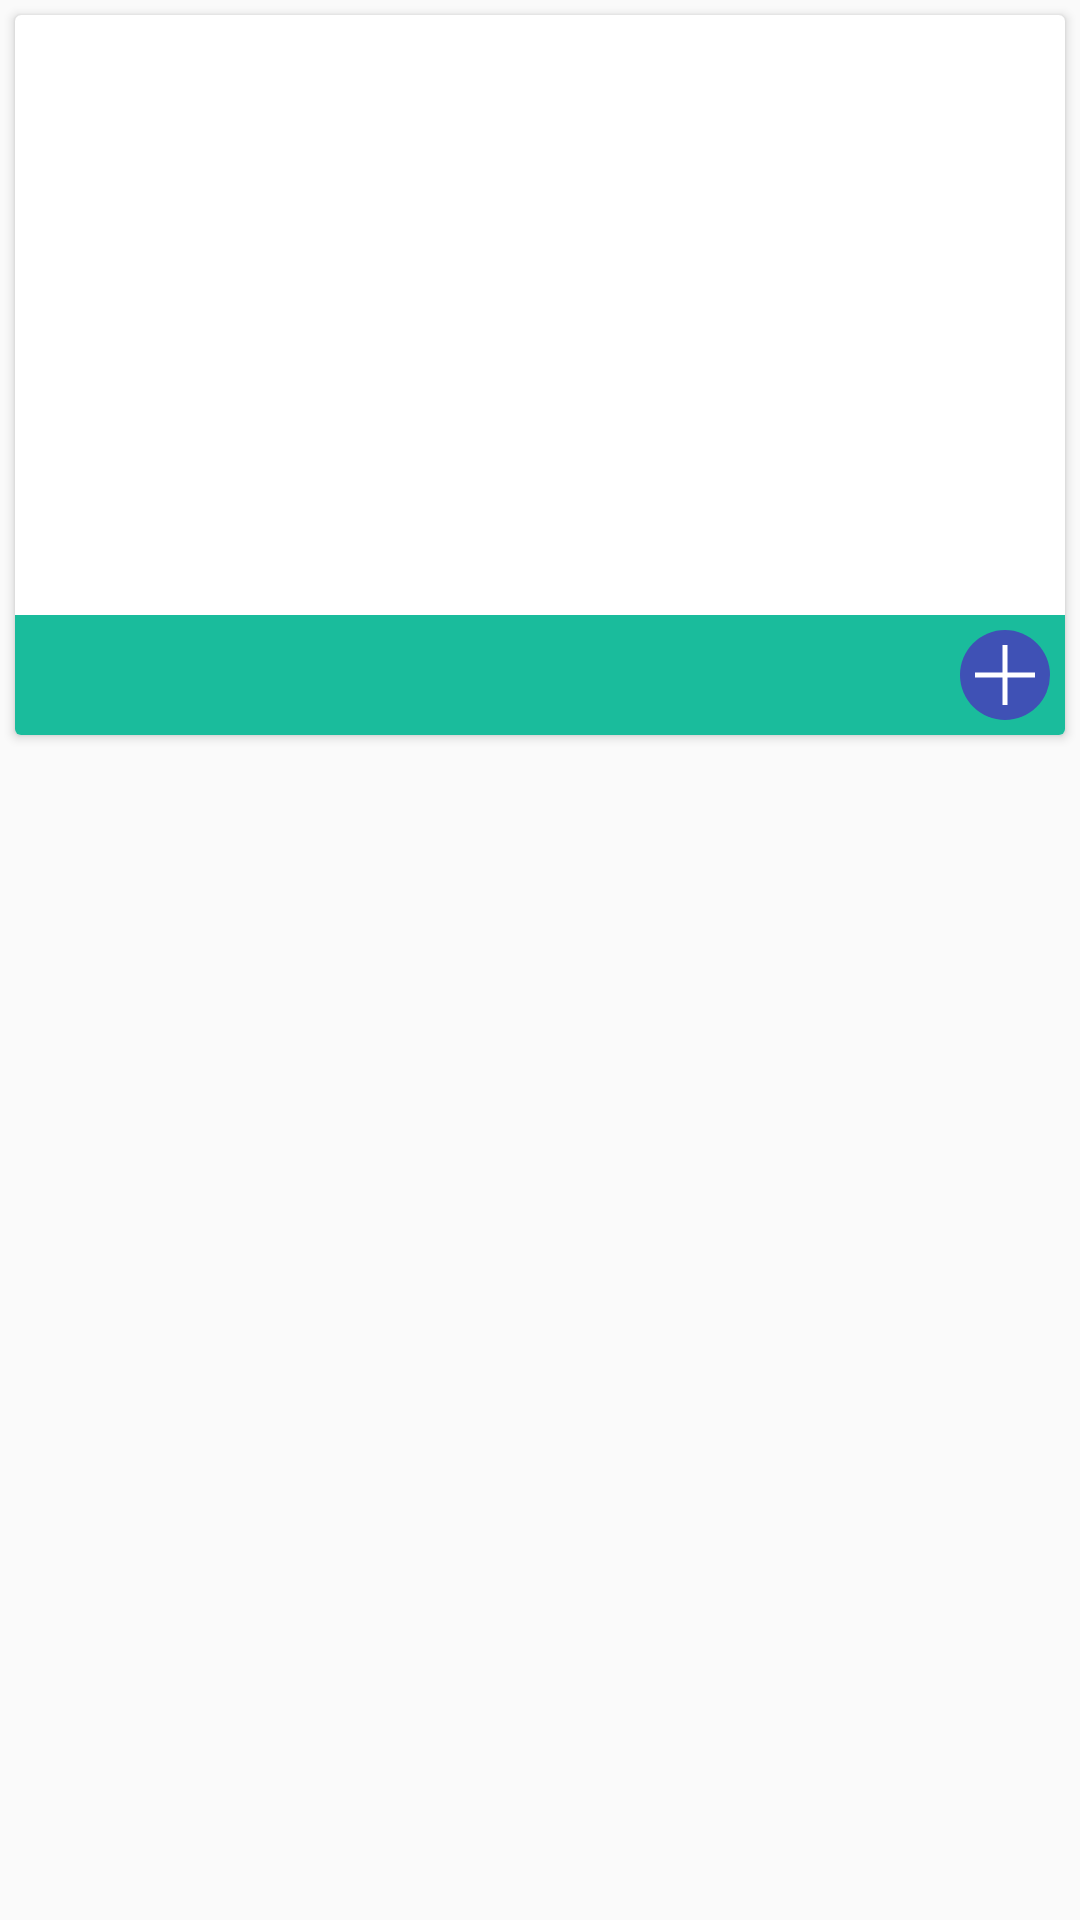

Icon click points for this 1080px x 1920px phone screenshot, format (x,y):
plus: (1005,675)
